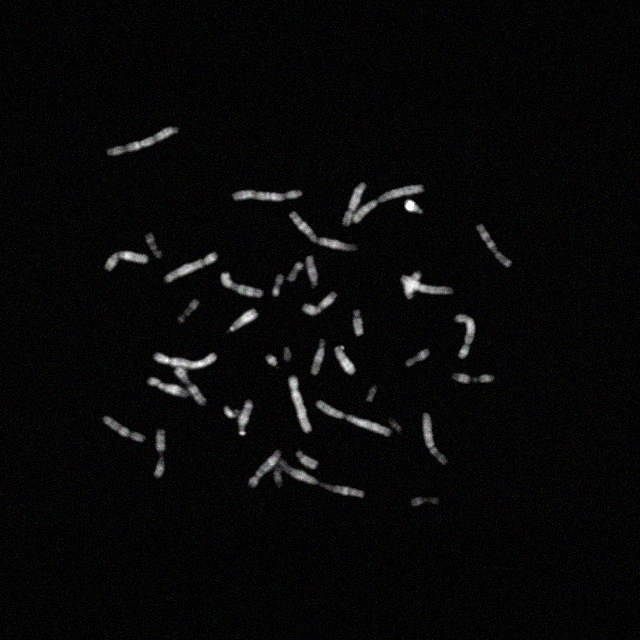chromosome: (280, 456, 364, 499), (315, 396, 391, 439), (287, 211, 355, 253), (354, 185, 424, 222), (108, 125, 178, 156), (421, 409, 449, 466), (164, 252, 220, 280), (248, 450, 284, 490), (478, 224, 512, 266), (220, 269, 264, 299), (288, 376, 310, 434), (232, 186, 302, 204), (400, 274, 454, 296), (176, 368, 207, 404), (102, 416, 144, 442), (105, 251, 149, 275), (454, 312, 476, 360), (154, 352, 216, 368), (342, 182, 364, 226), (152, 429, 170, 479), (302, 292, 338, 316), (148, 378, 190, 398), (336, 344, 358, 376), (452, 371, 496, 387), (310, 336, 328, 374), (229, 308, 257, 332), (237, 398, 253, 436), (412, 492, 441, 512), (142, 231, 162, 259), (177, 299, 199, 323), (405, 347, 431, 367), (294, 448, 318, 468), (404, 270, 420, 298), (350, 309, 366, 337), (306, 256, 320, 286), (270, 466, 284, 490), (405, 199, 425, 215), (288, 262, 302, 282), (272, 274, 284, 296), (222, 404, 240, 418), (264, 354, 278, 366), (282, 346, 292, 362)
